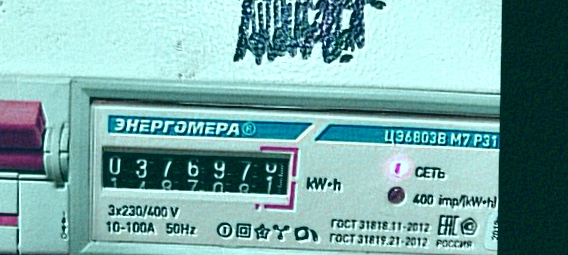0: (107, 154, 122, 176)
1: (264, 175, 275, 195)
3: (135, 158, 150, 180)
6: (186, 155, 202, 179)
7: (160, 156, 176, 180), (238, 159, 254, 183)
9: (212, 158, 227, 180)
screen: (93, 134, 303, 214)
